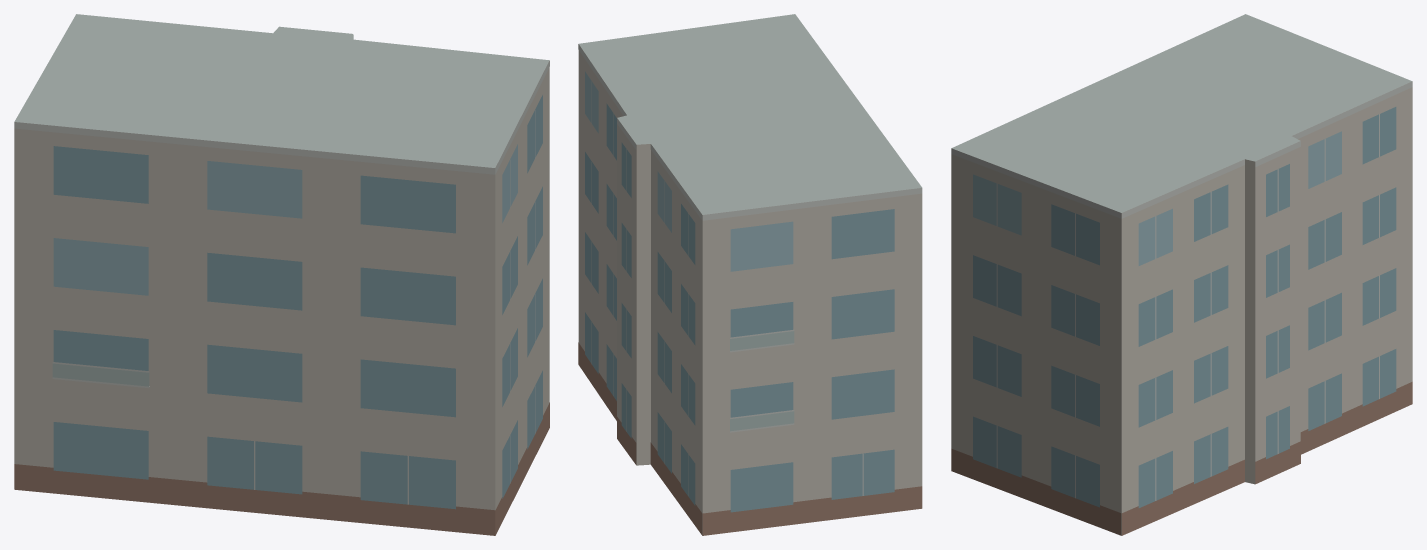
The model's file is survey-upis-33012841.glb.
3 views of the same model, side by side, from view 1: azimuth 30°, elevation 25°; view 2: azimuth 150°, elevation 25°; view 3: azimuth 270°, elevation 25° (orthographic). The views are drawn at different scales.
Parts seen in each view (by area): view 1: survey-upis-33012841.tmp; view 2: survey-upis-33012841.tmp; view 3: survey-upis-33012841.tmp.
Boxes of the visible parts, <box> form: survey-upis-33012841.tmp: <box>14,14,549,535</box>; survey-upis-33012841.tmp: <box>578,14,922,535</box>; survey-upis-33012841.tmp: <box>951,14,1412,535</box>.
Size of the model in its own units: 17.99 by 13.6 by 17.62.
